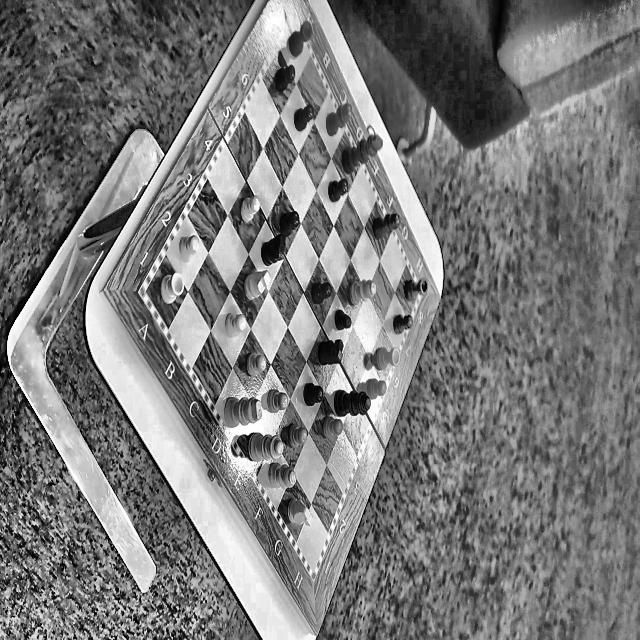chessboard: (147, 19, 419, 570)
